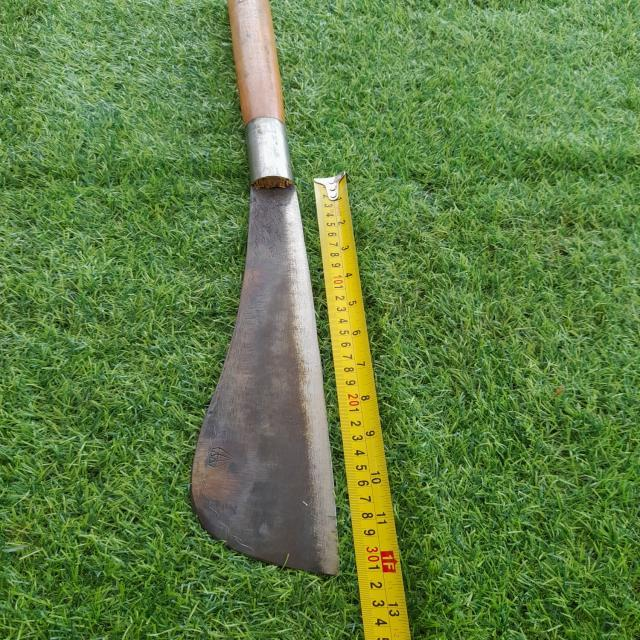eto: (174, 0, 350, 588)
